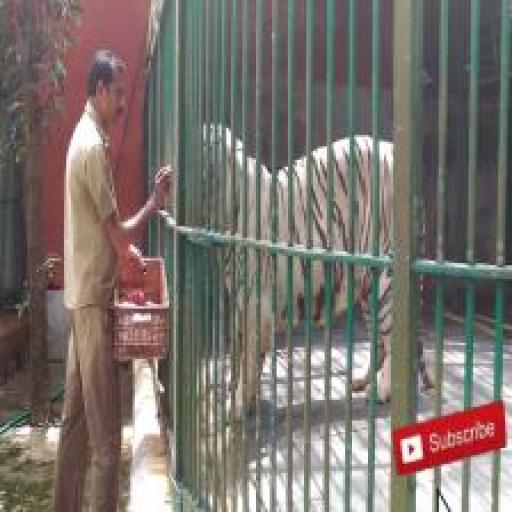Tiger: (185, 121, 439, 416)
